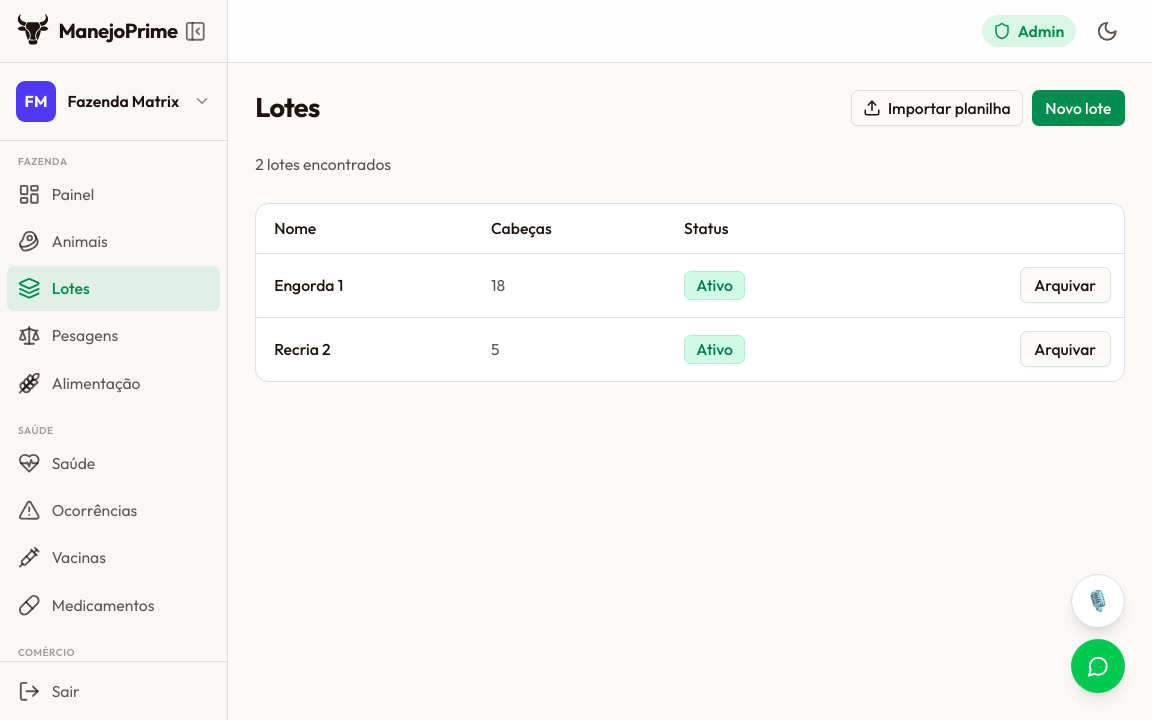
Test: lots management page › archive confirmation sends PATCH /api/v1/lots/:id and updates row
The width and height of the screenshot is (1152, 720).
Expected: the text "Engorda 1" is shown, top-left (256, 253), bottom-right (478, 317)
What coordinates should you click on to do the following:
click the button with aria-label "archive engorda 1"
I would click on:
 (1065, 285)
Its box is top-left (1020, 267), bottom-right (1110, 303).
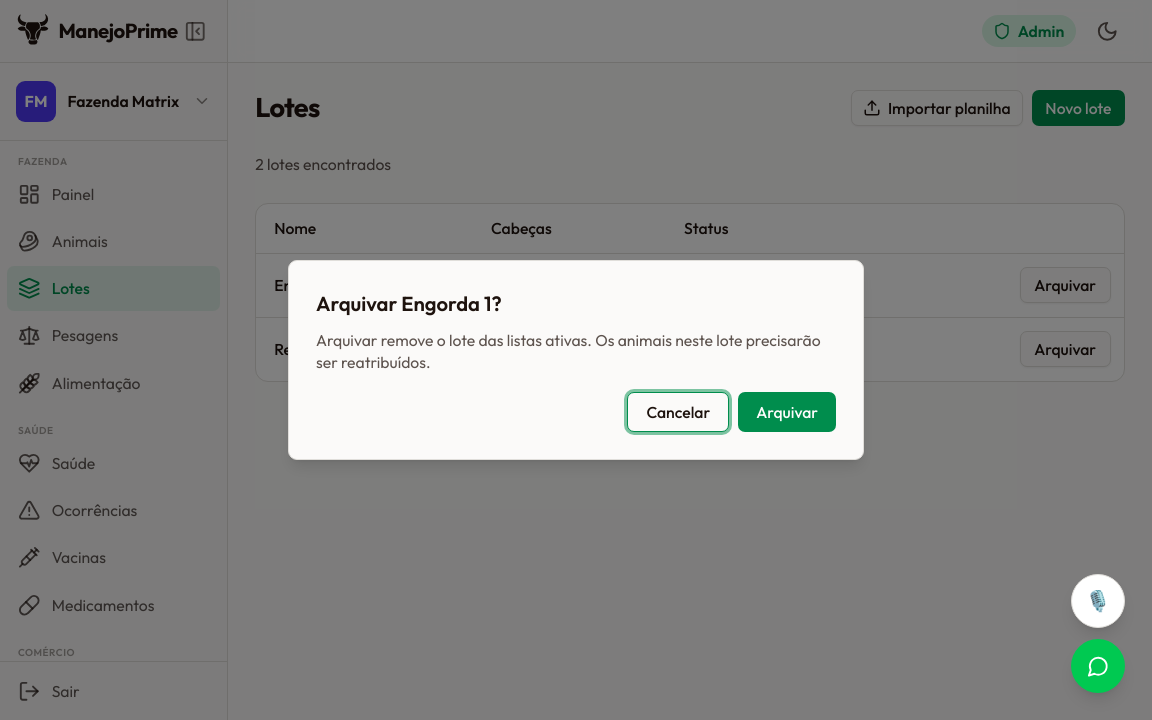
Expected: the dialog is shown, top-left (288, 260), bottom-right (864, 460)
What coordinates should you click on to do the following:
click the button "Arquivar"
I would click on:
 (787, 412)
Its box is top-left (738, 392), bottom-right (836, 432).
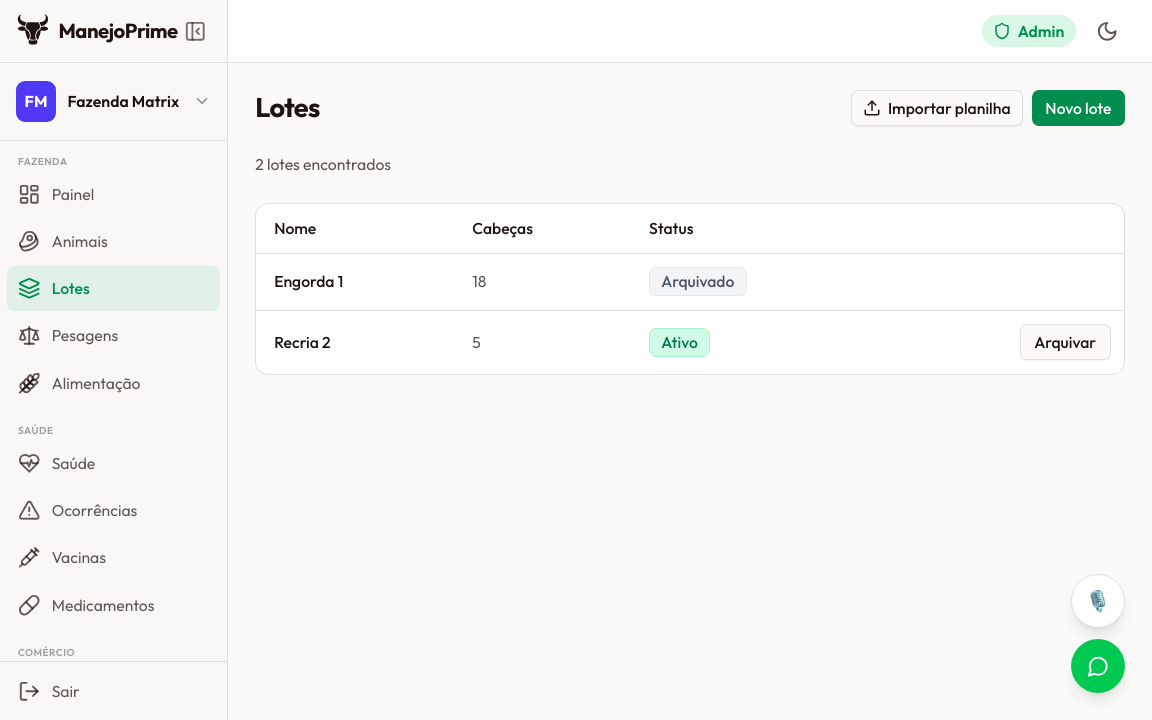
Expected: the text "Arquivado" is shown, top-left (649, 267), bottom-right (746, 296)
